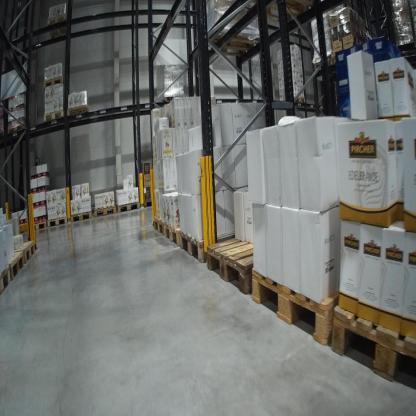pallet: (323, 293, 415, 386), (253, 267, 335, 359), (202, 235, 258, 298), (177, 223, 233, 271), (206, 25, 265, 60), (10, 240, 38, 264), (6, 253, 27, 284), (46, 17, 73, 40), (164, 220, 182, 249), (48, 214, 69, 232), (66, 106, 92, 120), (43, 75, 62, 94), (282, 96, 307, 110), (1, 268, 13, 297), (95, 203, 117, 218), (44, 106, 67, 120), (8, 118, 23, 139), (70, 209, 94, 222), (152, 212, 163, 237), (313, 59, 331, 74), (117, 203, 141, 214), (30, 220, 47, 234), (143, 199, 157, 208)
